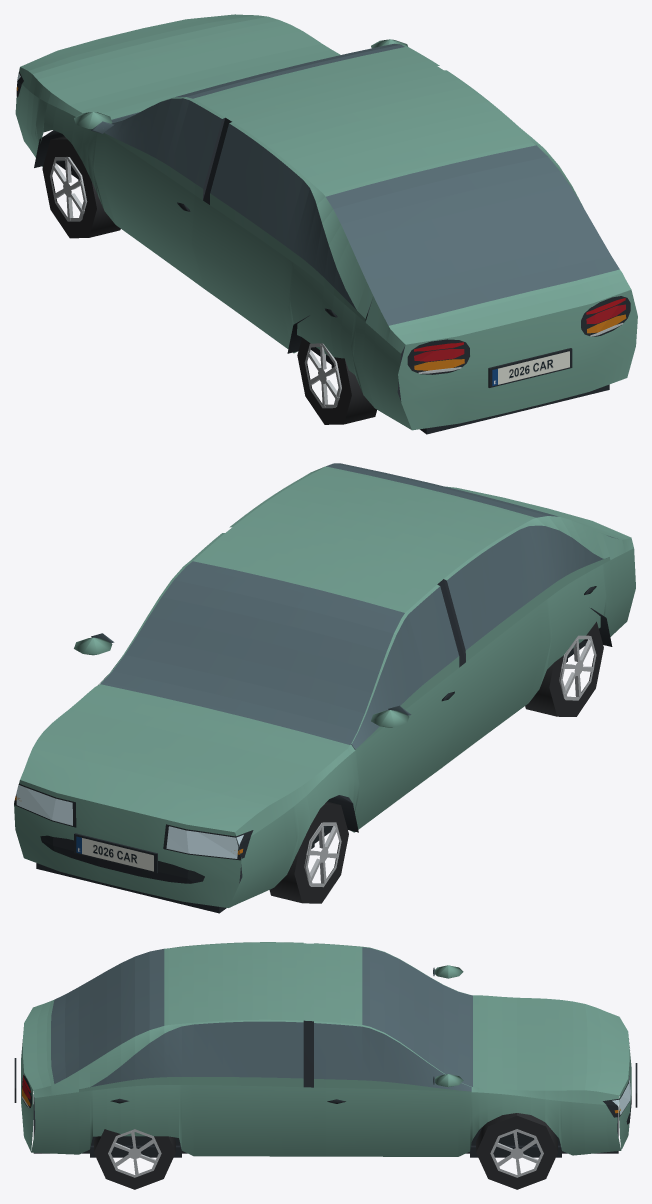
The model's file is Entrega_26_LOD2.glb.
3 renders of one model, top to bottom at view 1: azimuth 30°, elevation 25°; view 2: azimuth 150°, elevation 25°; view 3: azimuth 270°, elevation 25°, orthographic. The views are drawn at different scales.
Parts seen in each view (by area): view 1: Body, Glass, Wheel_FL, Wheel_RL, Plates, BrakeLights; view 2: Body, Glass, Wheel_FL, Wheel_RL, Headlights, Plates; view 3: Body, Glass, Wheel_FR, Wheel_RR.
Boxes of the visible parts, <box> form: Body: <box>15,14,637,434</box>; Glass: <box>91,43,619,325</box>; Wheel_FL: <box>42,136,120,238</box>; Wheel_RL: <box>297,337,376,424</box>; Plates: <box>492,351,569,386</box>; BrakeLights: <box>414,304,625,361</box>; Body: <box>14,466,635,913</box>; Glass: <box>91,463,617,749</box>; Wheel_FL: <box>269,801,348,903</box>; Wheel_RL: <box>525,621,603,716</box>; Headlights: <box>16,784,243,858</box>; Plates: <box>76,836,153,871</box>; Body: <box>14,942,637,1157</box>; Glass: <box>51,947,472,1091</box>; Wheel_FR: <box>476,1113,557,1189</box>; Wheel_RR: <box>94,1129,175,1189</box>.
Bounding box in the file's own units: 2.13 × 1.35 × 4.64.
10 materials, 1 textured.
